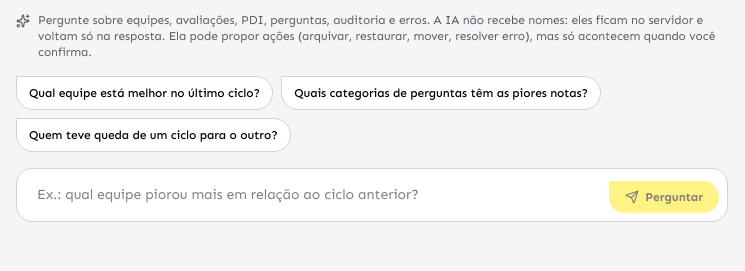
Test case: AssistantView › mostra o erro em português e deixa tentar de novo
The image size is (745, 271).
In the text box named "Pergunte sobre os dados": (313, 195) [25,177,601,213], type "Teste"
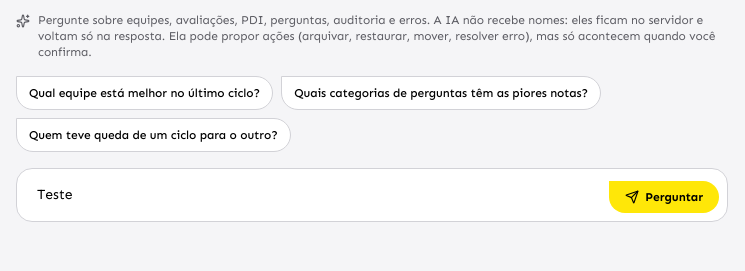
Click the button "Perguntar": (664, 197) [609,181,719,213]
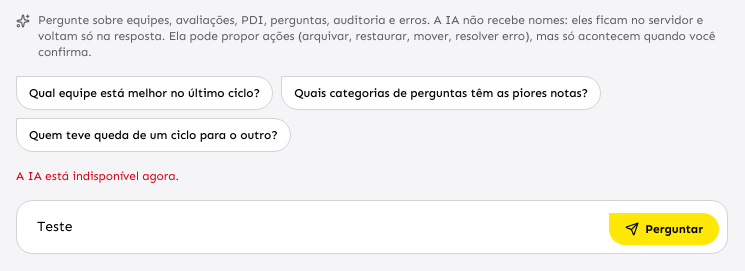
Result: the button "Perguntar" is enabled at [609,213,719,245]
Result: the message reads "A IA está indisponível agora." at [16,169,179,183]
